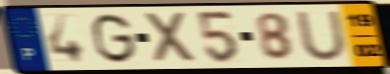4: (48, 13, 89, 66)
5: (195, 9, 241, 66)
8: (254, 10, 296, 62)
G: (90, 11, 138, 65)
U: (293, 9, 351, 63)
X: (142, 10, 201, 66)
